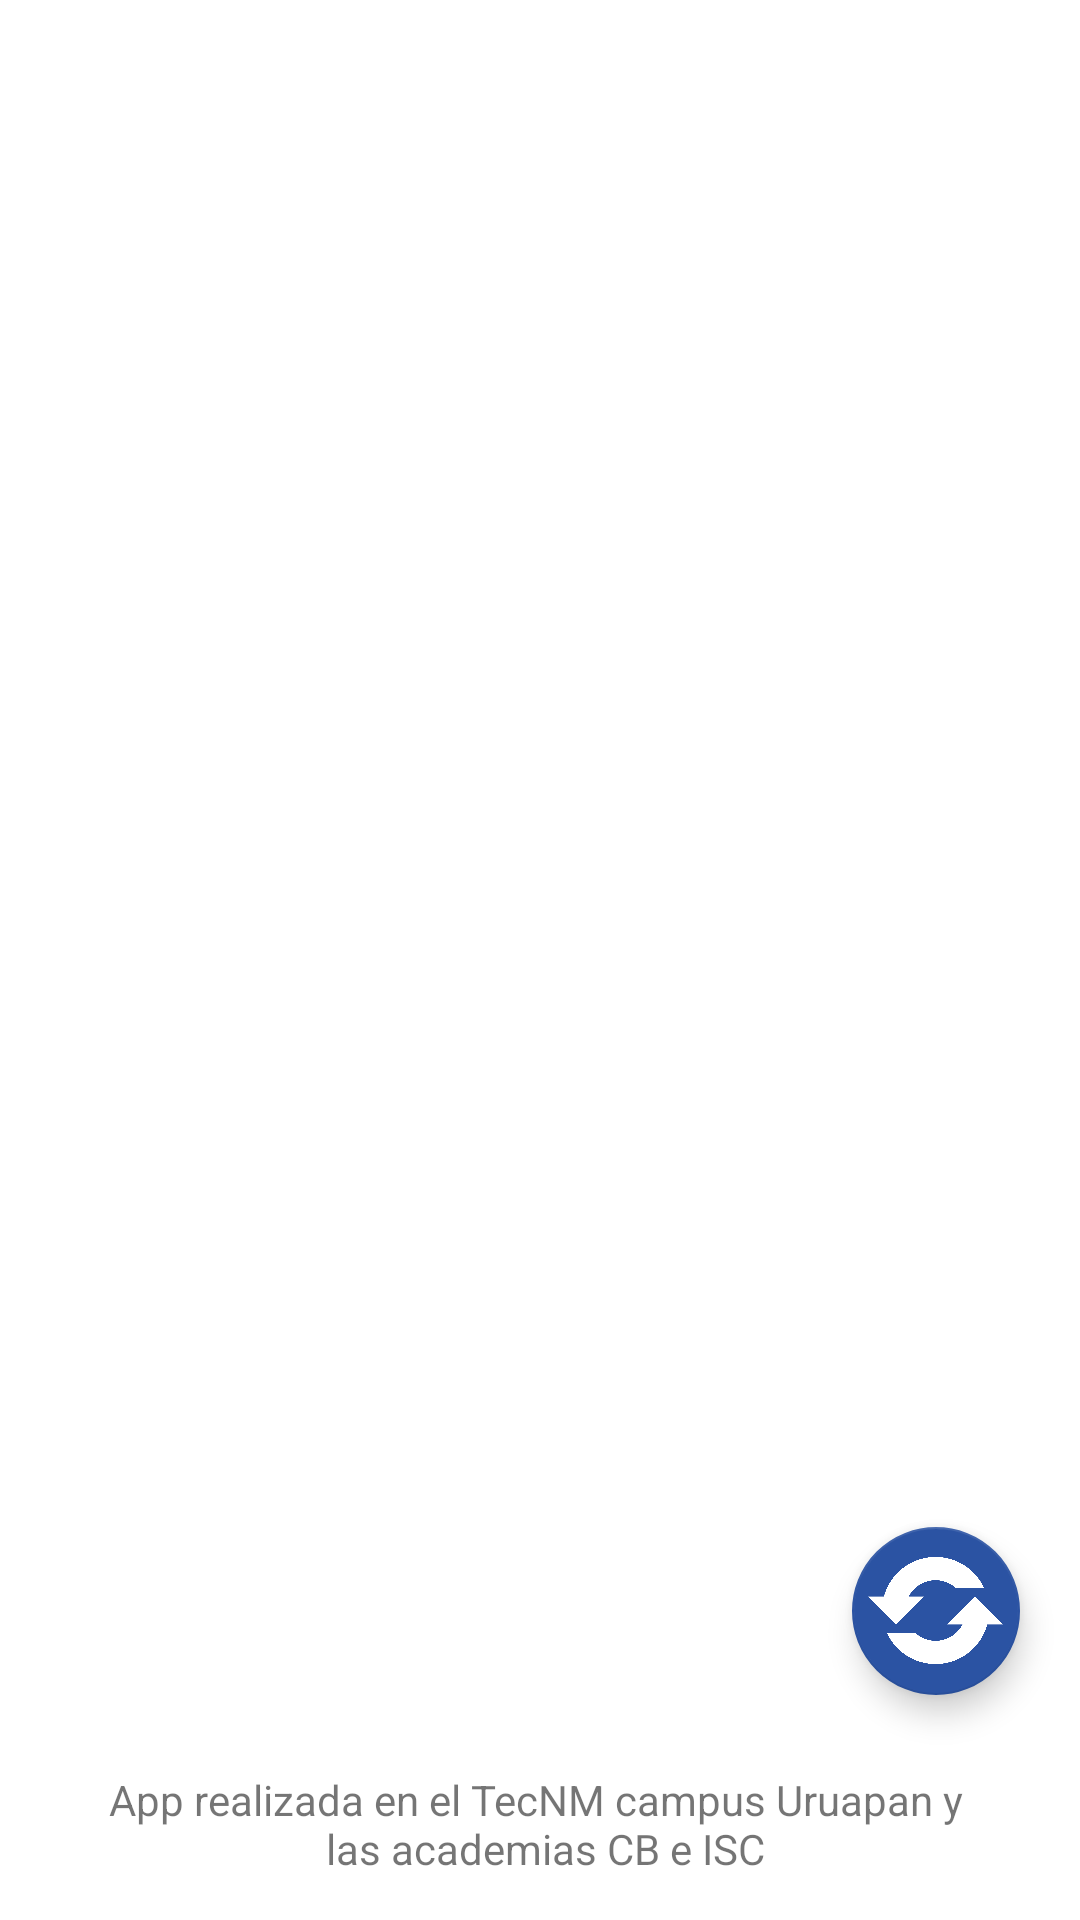

Screen size 1080x1920. Icon name, then its box in pixels as (x1=x1, y1=y1, x2=x2, y2=y2):
conversor: (x1=852, y1=1527, x2=1020, y2=1695)
